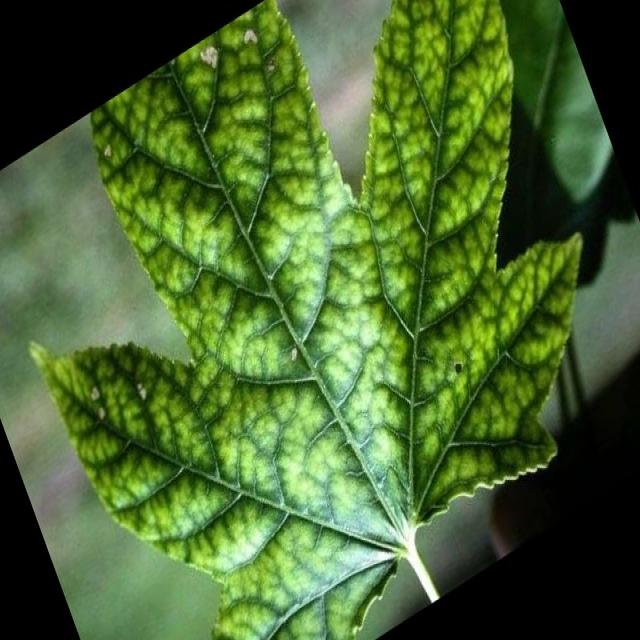Chlorosis: (46, 9, 584, 640)
